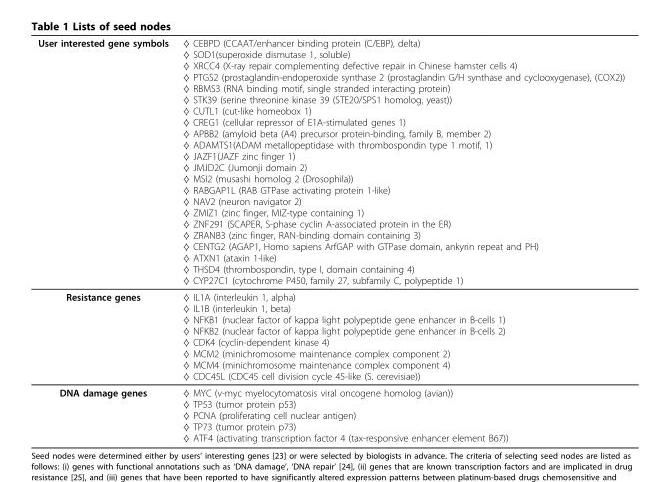table: (37, 36, 624, 443)
table column: (174, 36, 624, 443), (37, 36, 174, 443)
table column header: (37, 36, 624, 288)
table row: (37, 36, 624, 288), (37, 288, 624, 383), (37, 383, 624, 443)
